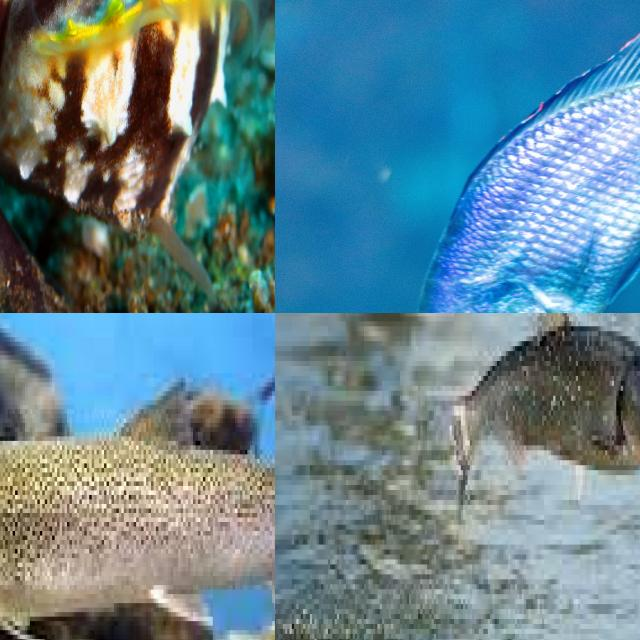fish: (361, 0, 640, 313), (0, 0, 275, 313), (0, 364, 275, 640), (488, 313, 640, 640)
